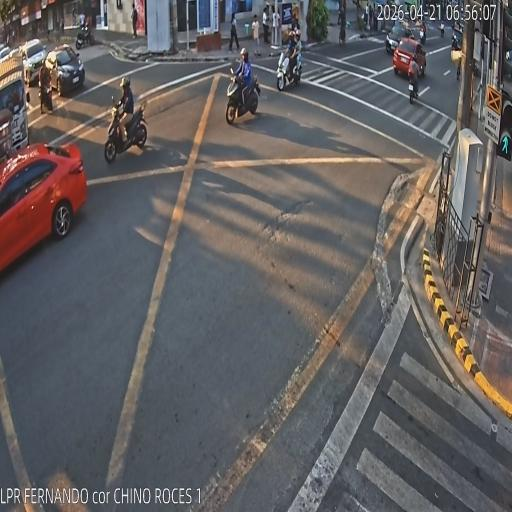Car: (0, 140, 87, 273), (49, 46, 93, 94), (393, 36, 427, 81), (13, 38, 46, 83), (386, 16, 405, 50)
Motor: (100, 65, 158, 180), (215, 38, 263, 136), (276, 28, 306, 88), (30, 59, 63, 113), (403, 57, 427, 108)
